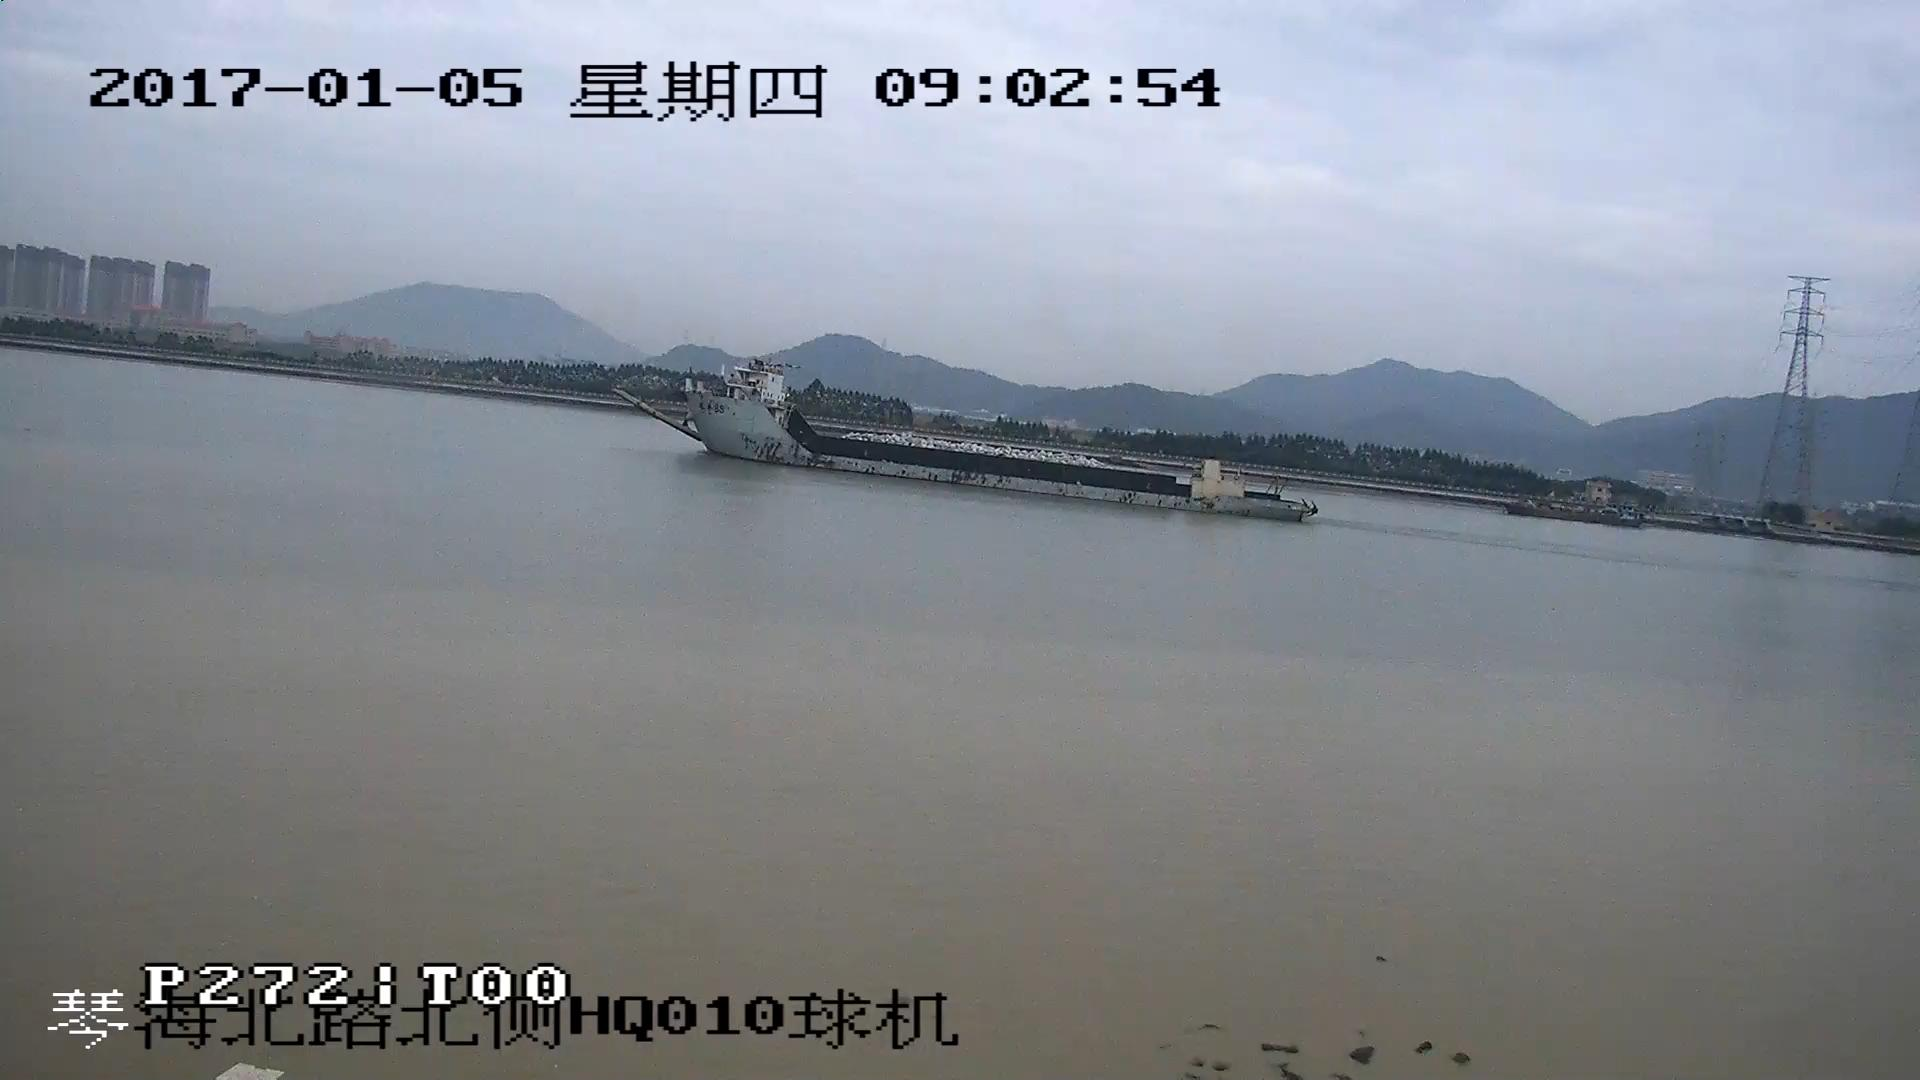bulk cargo carrier: (623, 370, 1304, 524)
